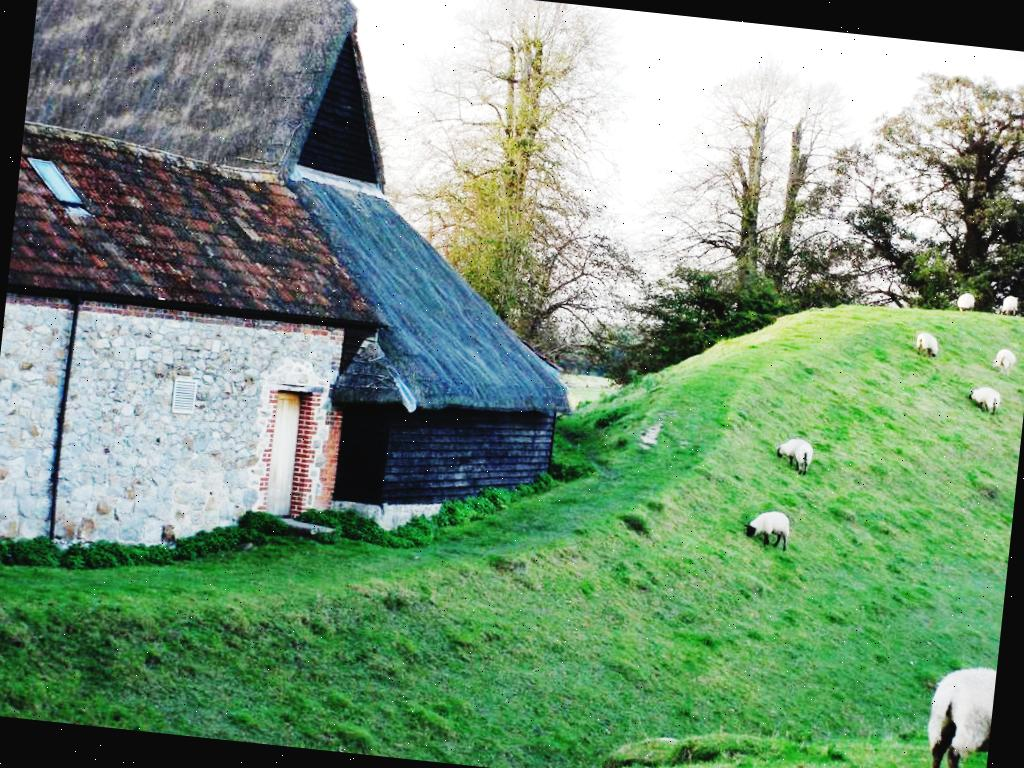Sheep: (916, 662, 996, 768), (741, 505, 792, 551), (774, 439, 812, 472), (972, 388, 1002, 412), (991, 346, 1015, 370), (912, 334, 938, 356), (1000, 292, 1019, 316), (956, 294, 976, 315)
